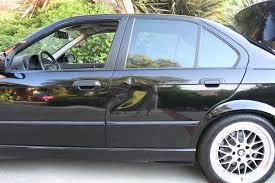Door: (110, 71, 165, 123)
